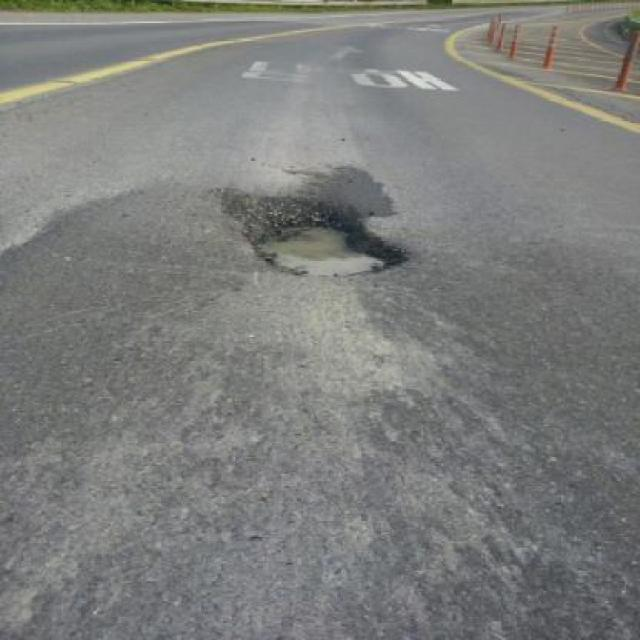Pothole: (232, 200, 417, 283)
